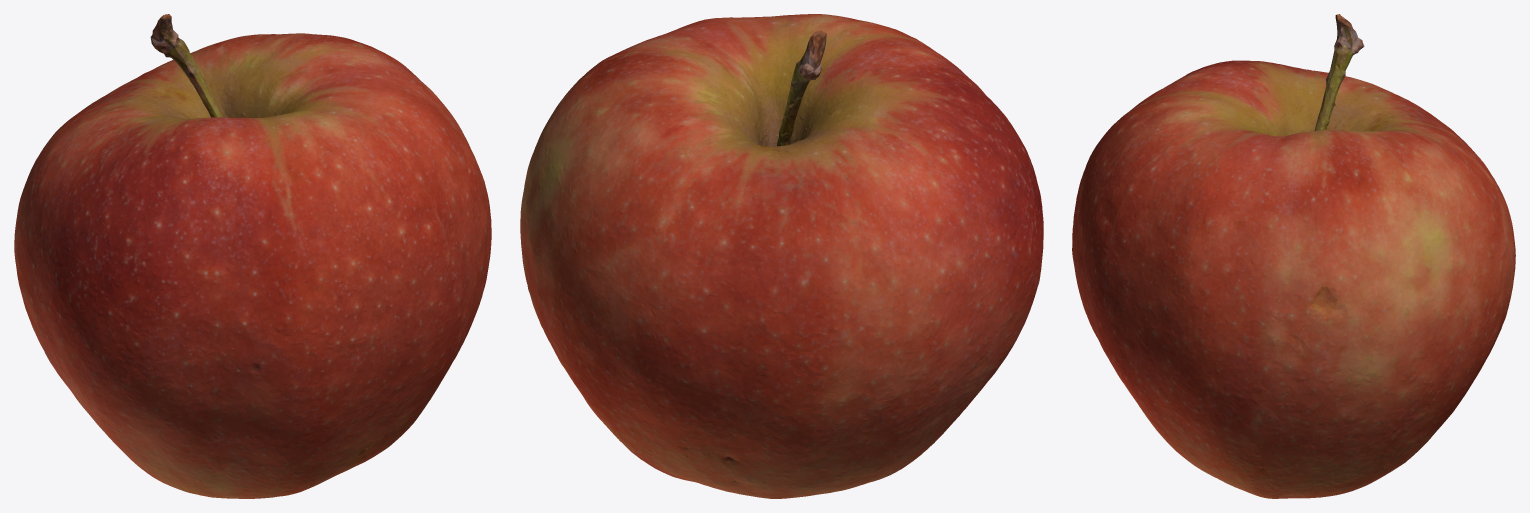
The model's file is apple.obj.
The picture shows the model from 3 angles, left to right: view 1: azimuth 30°, elevation 25°; view 2: azimuth 150°, elevation 25°; view 3: azimuth 270°, elevation 25°; orthographic projection. The views are drawn at different scales.
Parts seen in each view (by area): view 1: 3DApple001_HQ; view 2: 3DApple001_HQ; view 3: 3DApple001_HQ.
Boxes of the visible parts, x1,y1,x2,y2 form: 3DApple001_HQ: (14,14,491,498); 3DApple001_HQ: (520,14,1043,498); 3DApple001_HQ: (1072,14,1515,498).
Size of the model in its own units: 0.1172 by 0.1188 by 0.1143.
1 material, 1 textured.
